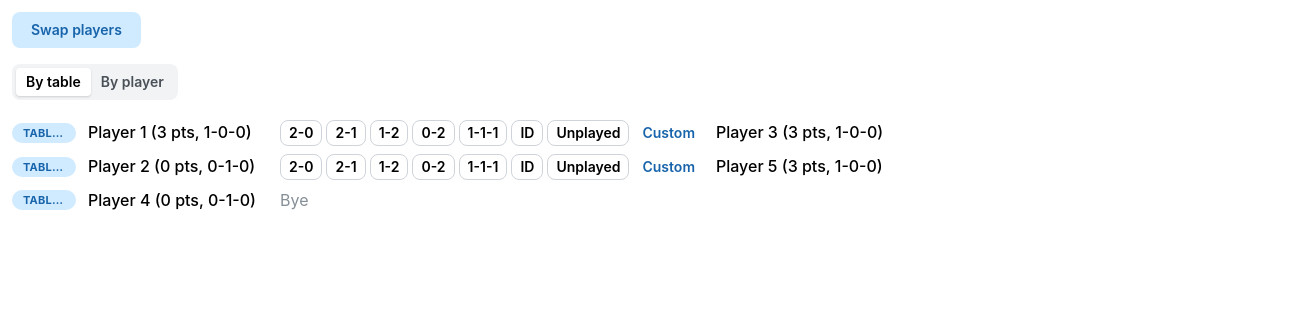
SwapPlayers › shows the rematch warning a swap creates, naming both players
Expected: the text "Rematch" is not shown
Click the button "Swap players" at (76, 30), box [12,12,141,48]
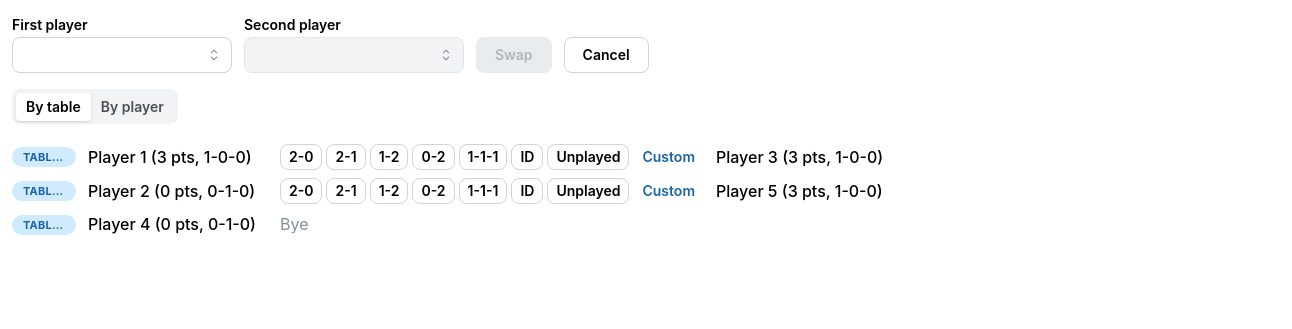
Click the dropdown labelled "First player" at (122, 55), box [12,37,232,73]
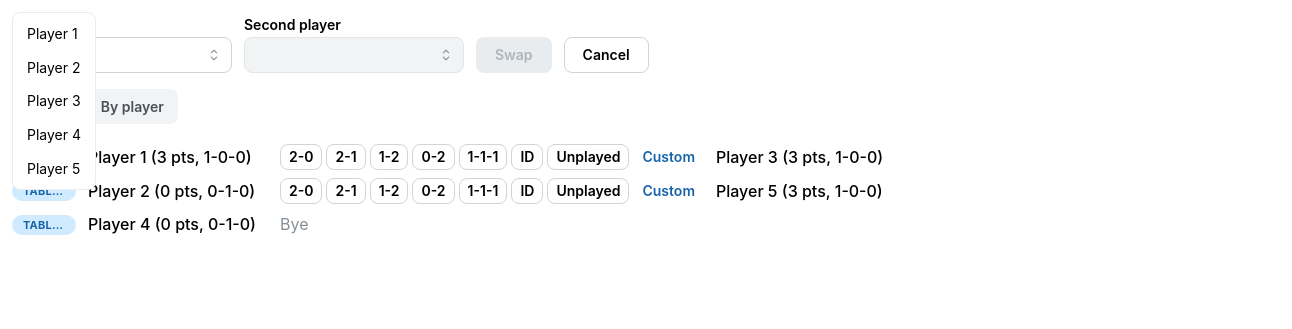
Click the option "Player 2" at (54, 67), box [27,59,80,76]
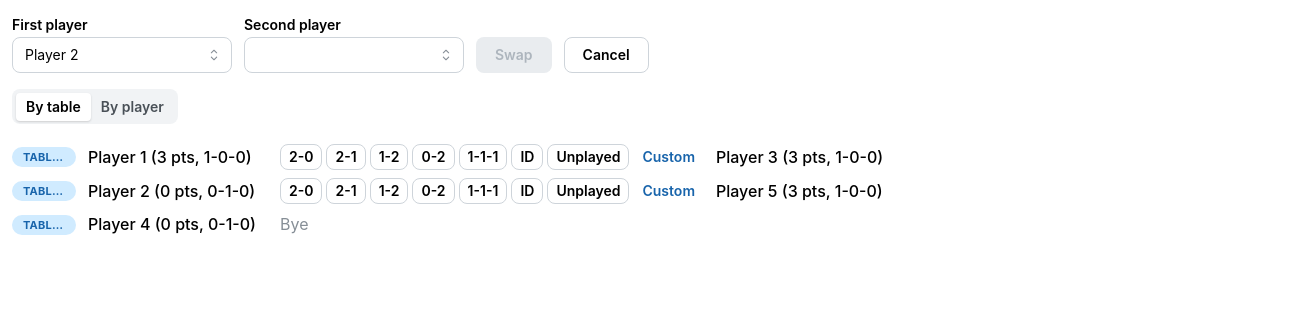
Click the dropdown labelled "Second player" at (354, 55), box [244,37,464,73]
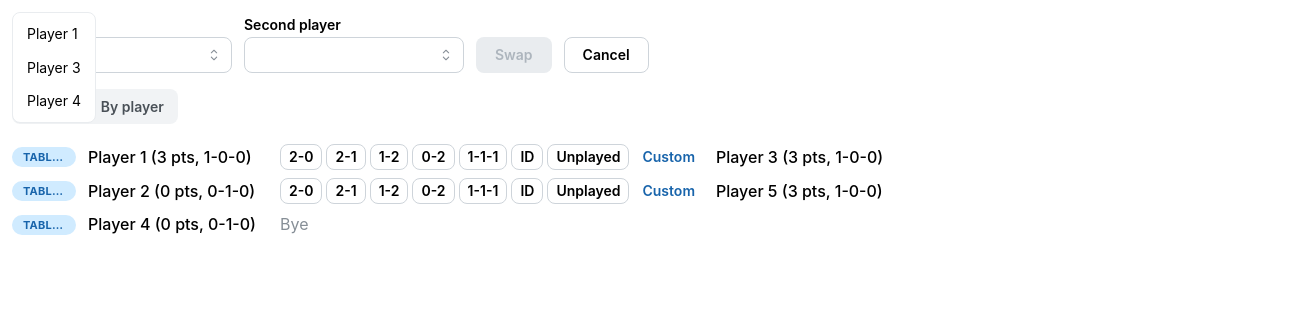
Click the option "Player 3" at (54, 67), box [27,59,81,76]
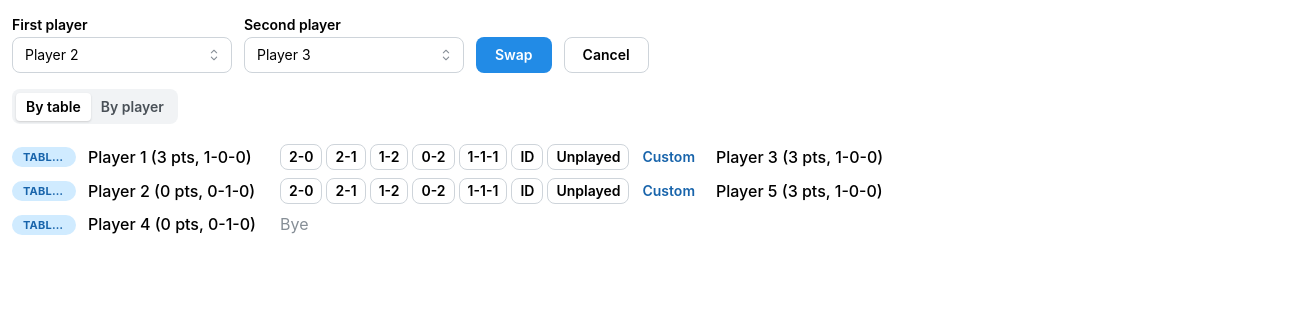
Click the button "Swap" at (514, 55), box [476,37,552,73]
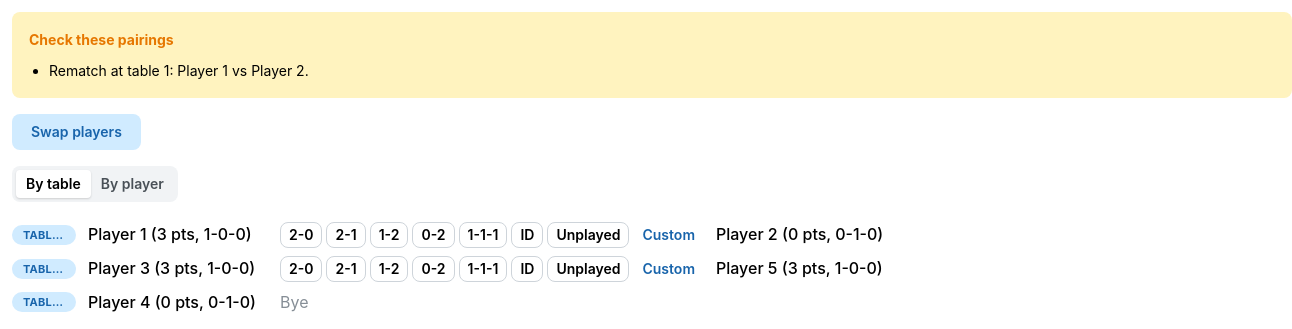
Expected: the text "Rematch at table 1: Player 1 vs Player 2." is shown, [49,61,309,81]
